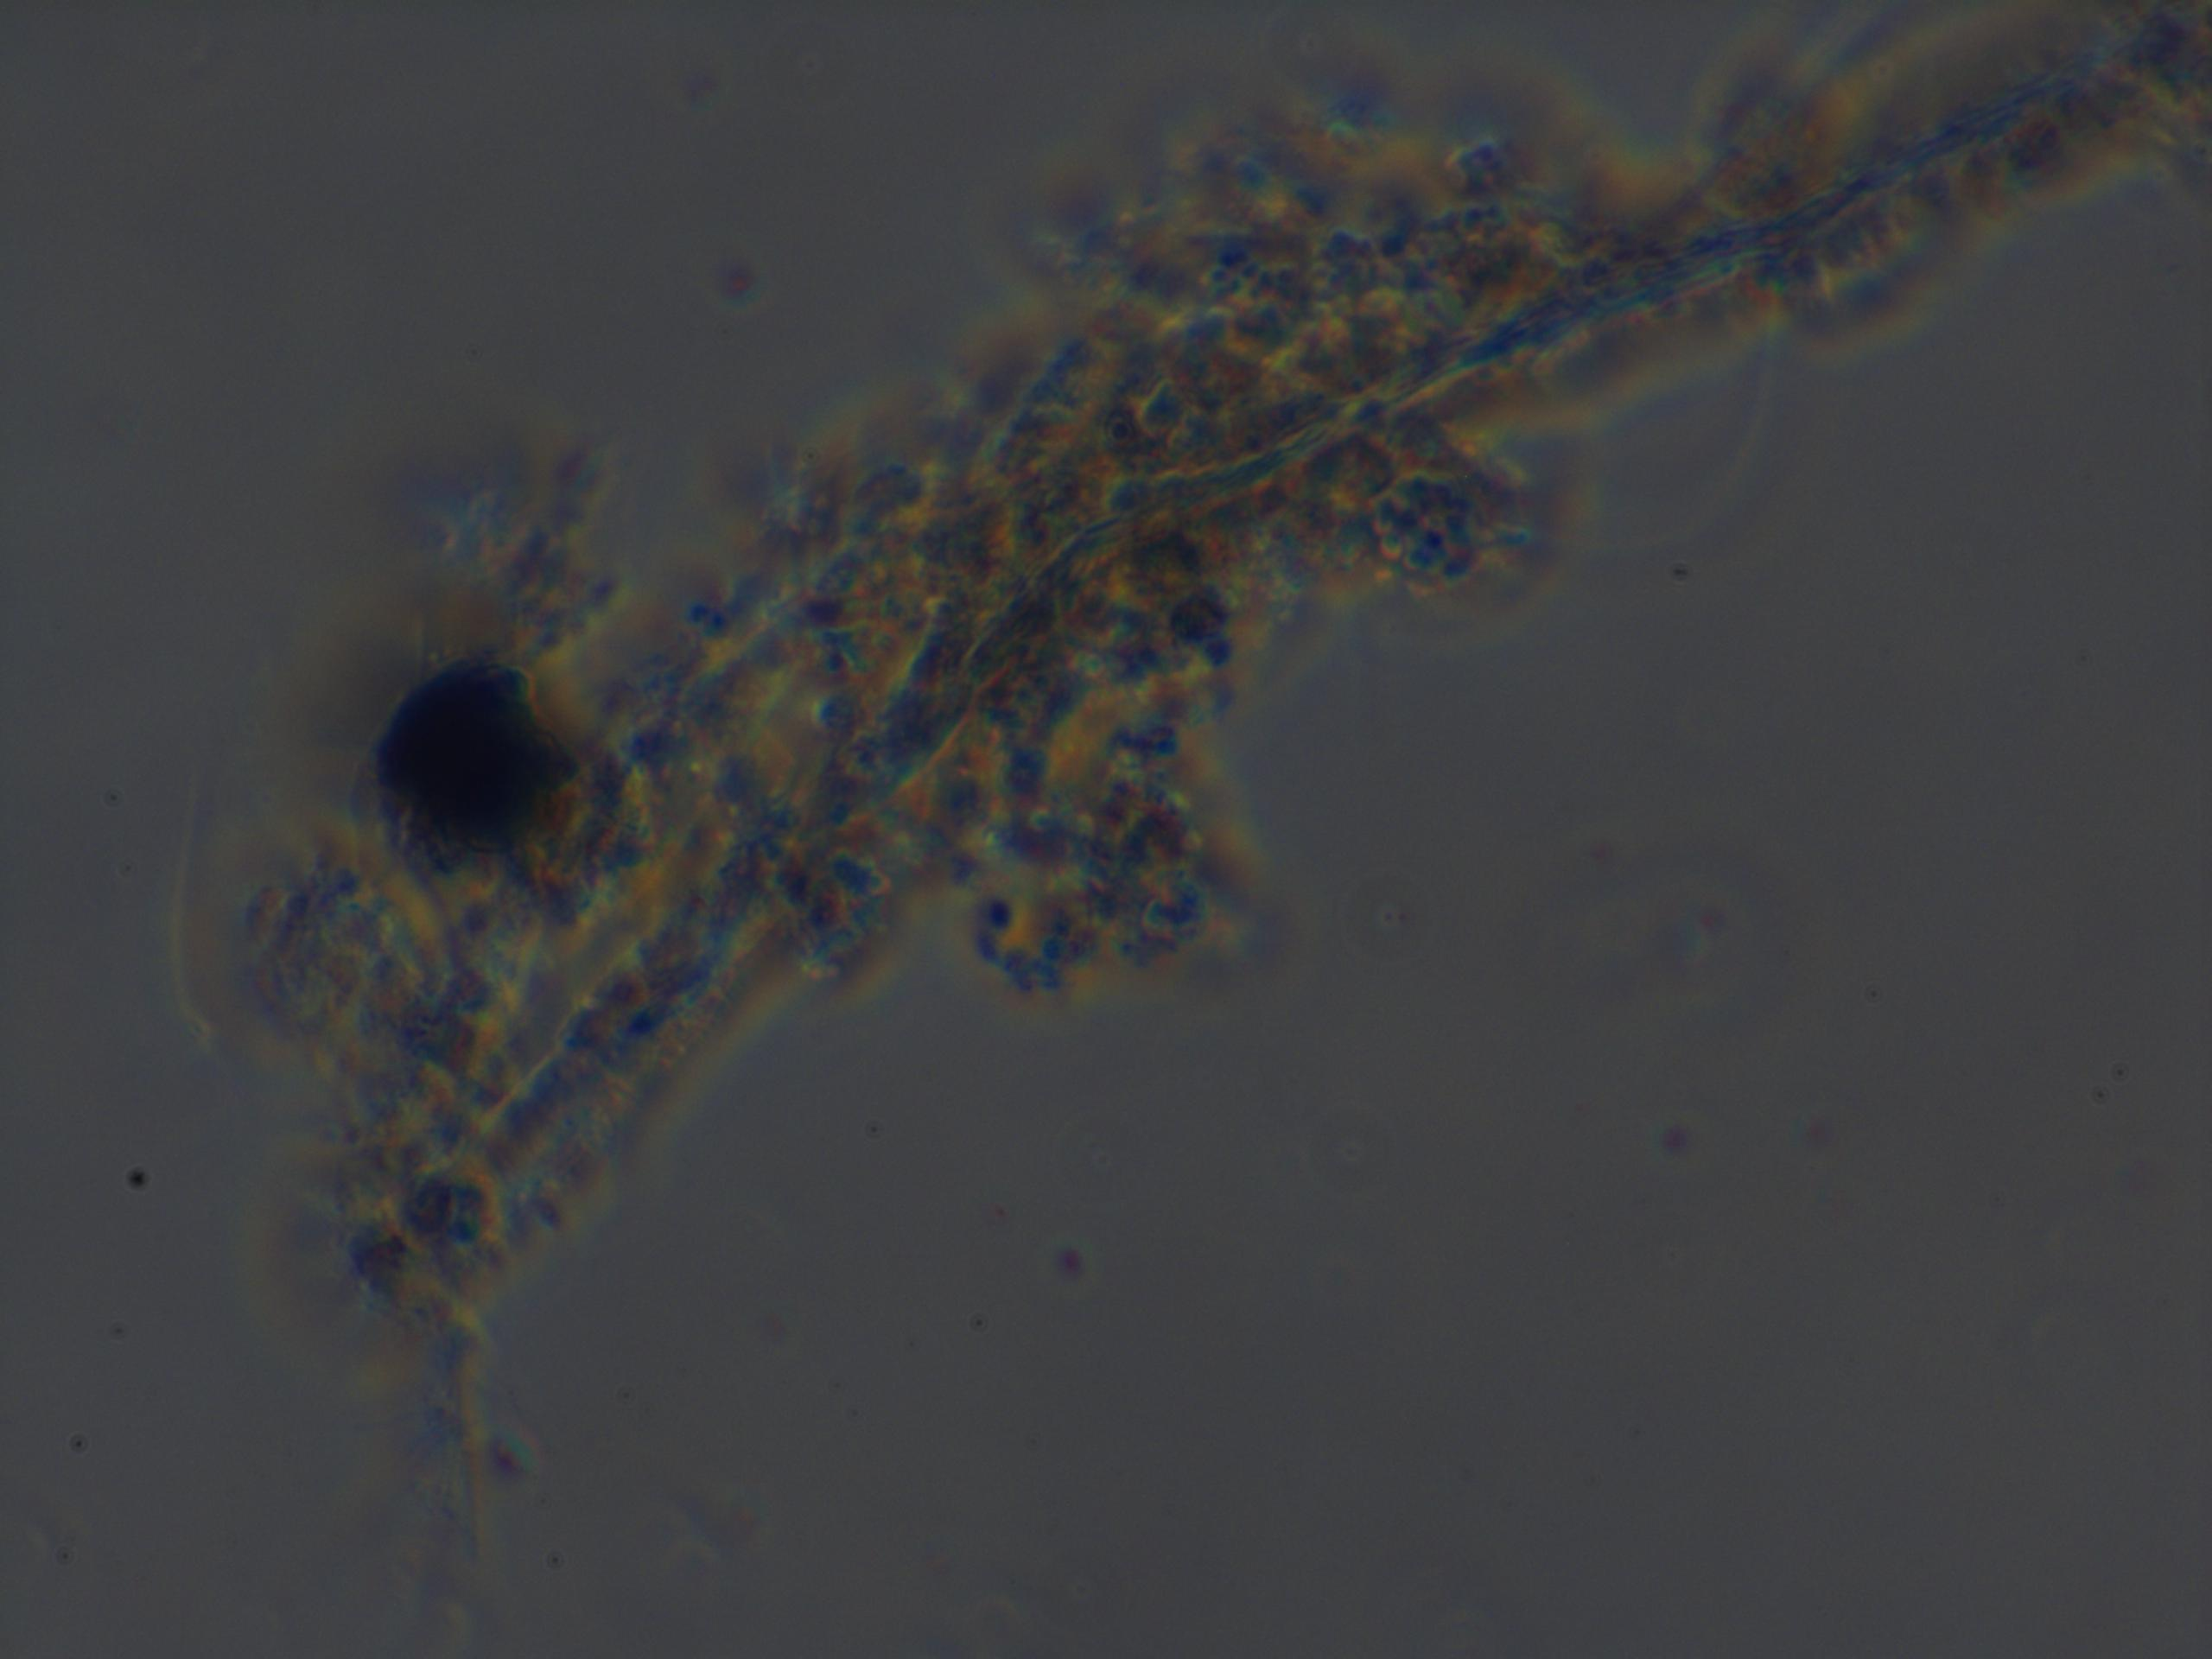filament: (301, 26, 2212, 1373)
